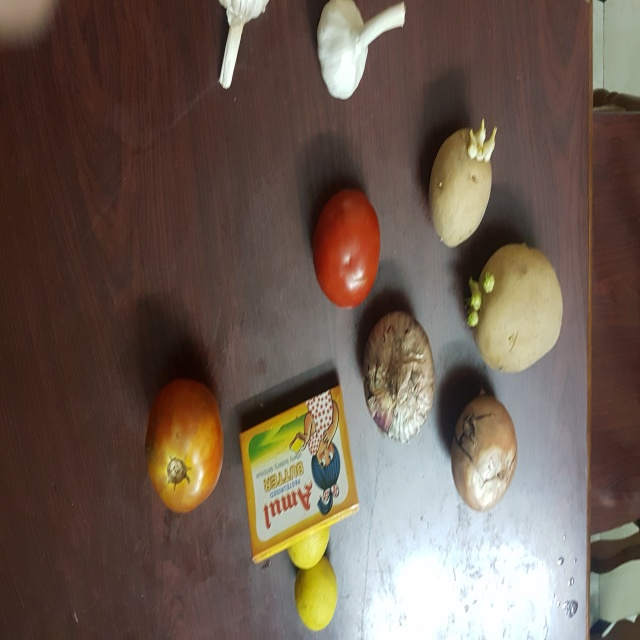butter: (232, 381, 364, 567)
garlic: (316, 1, 411, 102)
lemon: (295, 552, 339, 631), (288, 508, 335, 577)
onion: (362, 307, 436, 440), (448, 390, 519, 513)
potato: (465, 238, 565, 377), (426, 108, 502, 250)
tomato: (146, 377, 223, 516), (313, 188, 384, 312)
